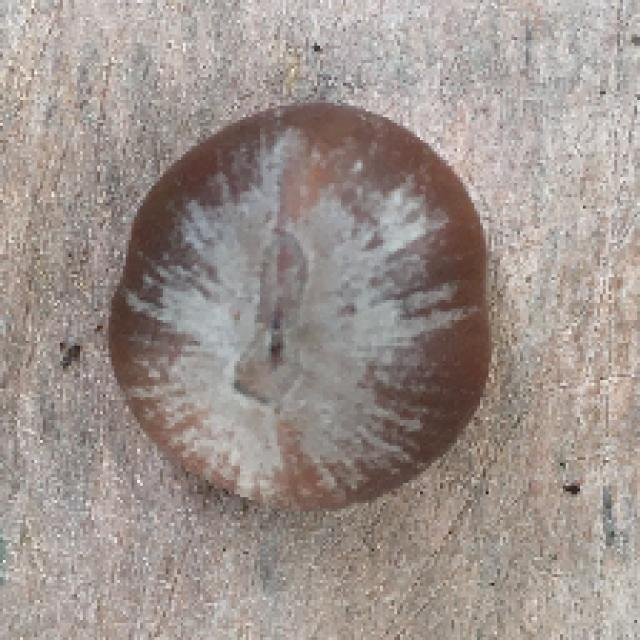damagedHazelnut: (92, 91, 510, 541)
